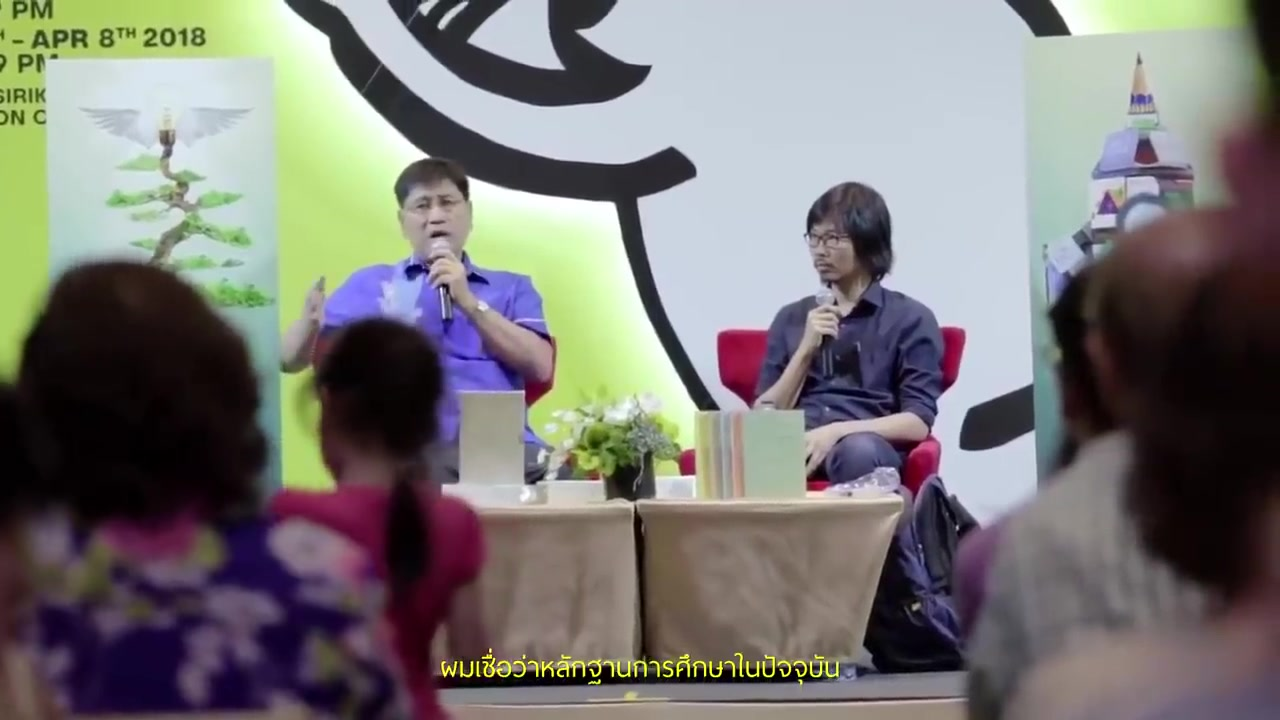text-label: (429, 641, 844, 690)
